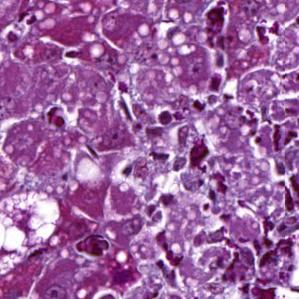ballooning: (0, 191, 64, 279)
